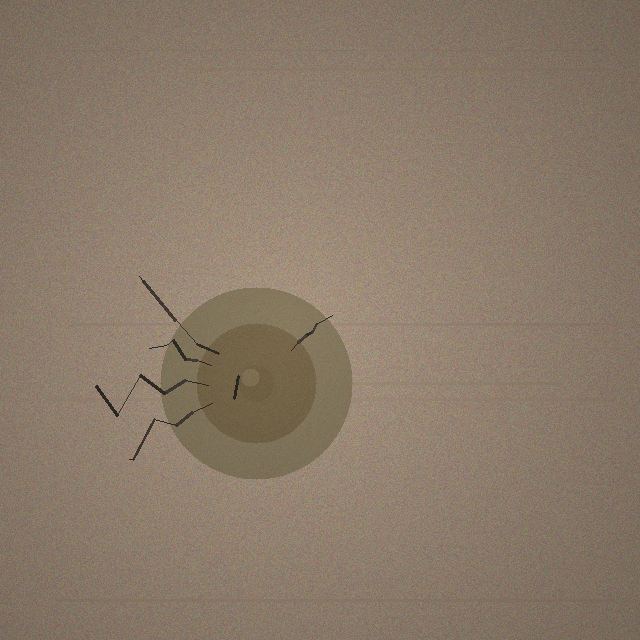crack: (160, 287, 352, 479)
